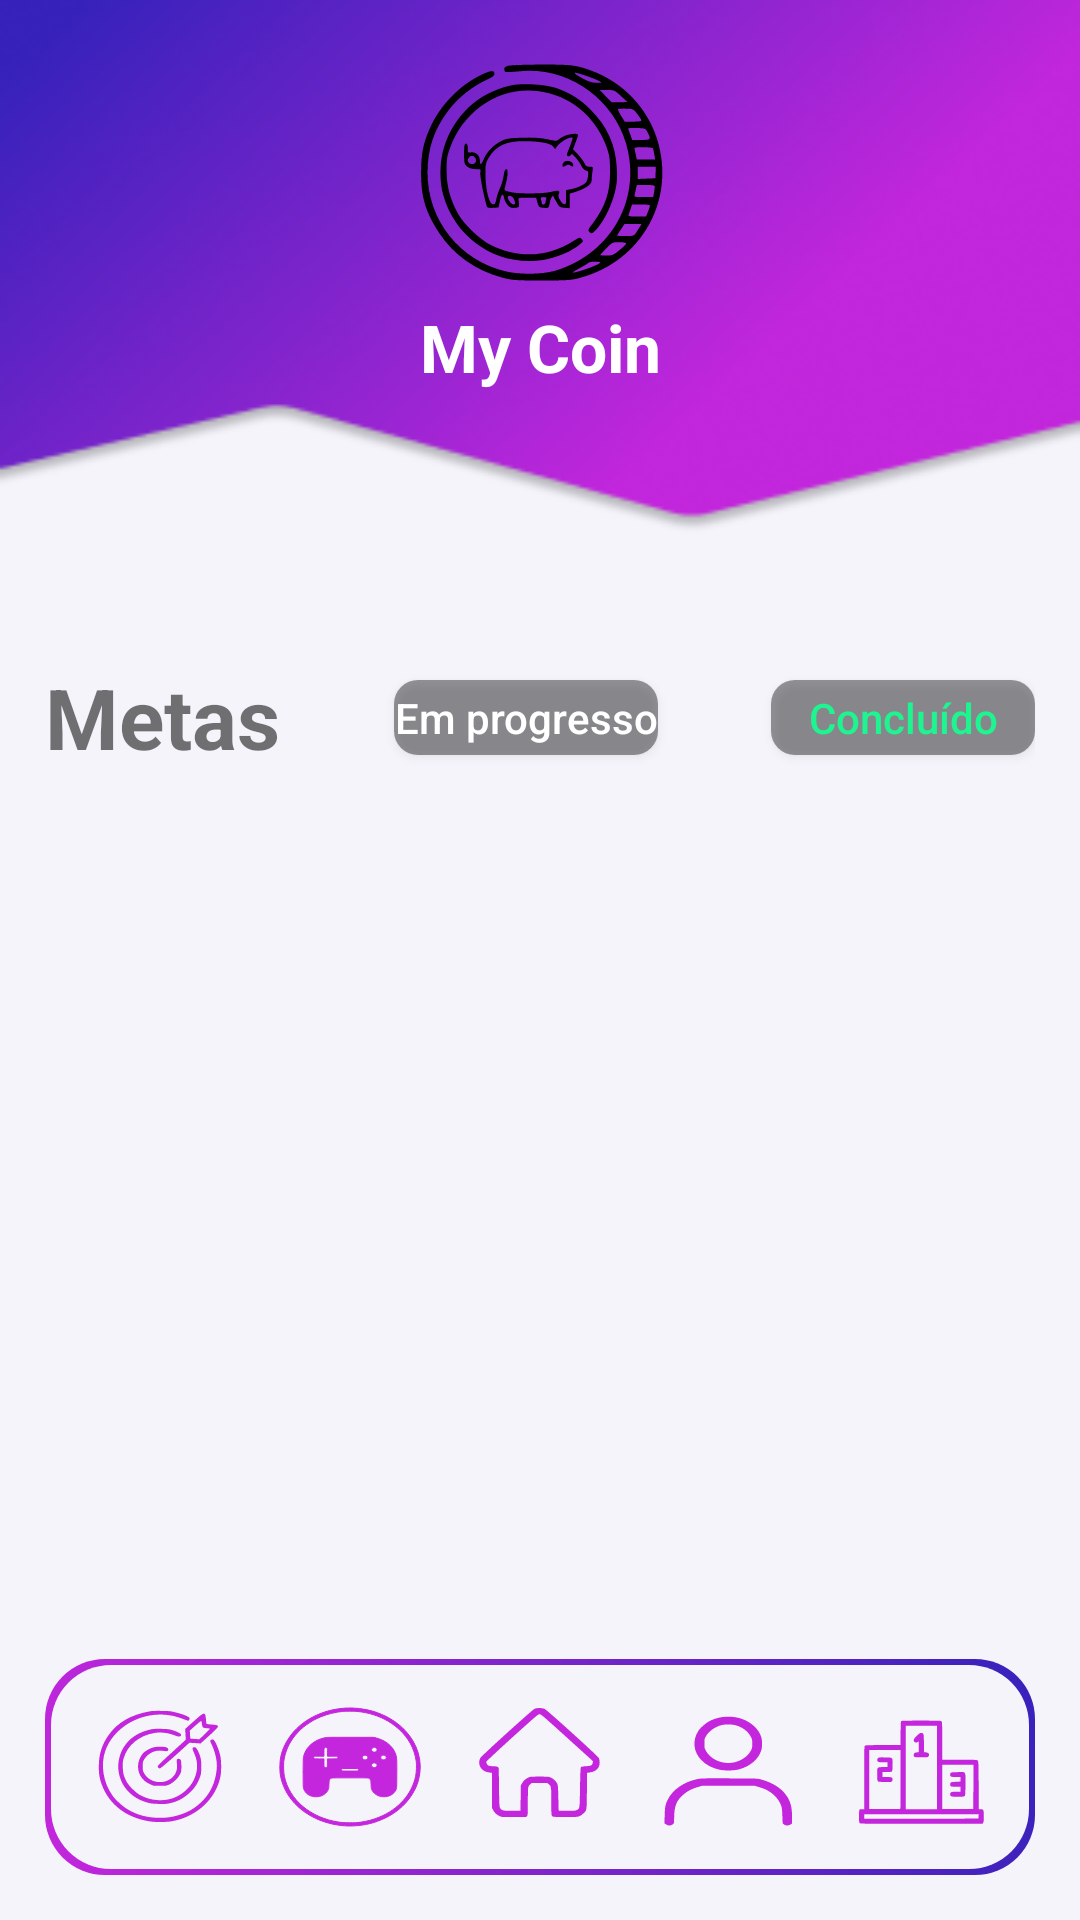

Where to tap for icons on this 1080x1920 app screen, as [x,y]:
control: [350,1767]
home: [539,1762]
person: [728,1771]
ranking: [921,1772]
target: [160,1766]
